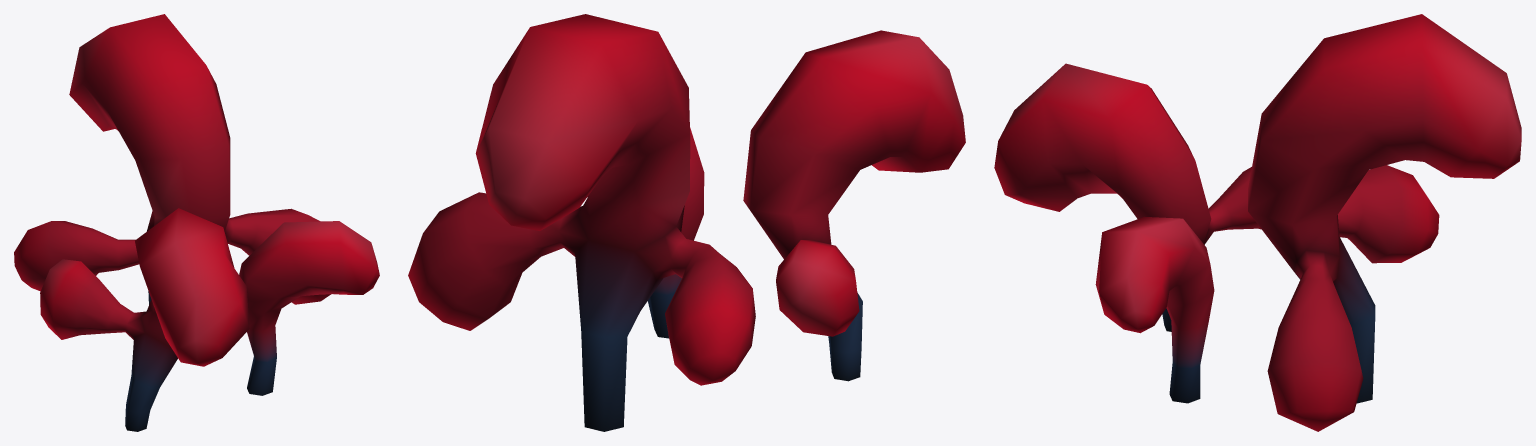
The model's file is Alien_Bush04.fbx.
3 views of the same model, side by side, from view 1: azimuth 30°, elevation 25°; view 2: azimuth 150°, elevation 25°; view 3: azimuth 270°, elevation 25° (orthographic). The views are drawn at different scales.
Parts seen in each view (by area): view 1: Alien_Bush04; view 2: Alien_Bush04; view 3: Alien_Bush04.
Part boxes in pixels (x1,y1,x2,y2): Alien_Bush04: [14, 14, 379, 431]; Alien_Bush04: [408, 14, 965, 431]; Alien_Bush04: [994, 14, 1521, 431].
Bounding box in the file's own units: 2314 × 2187 × 2857.
